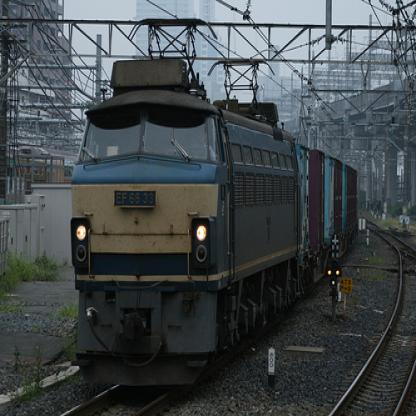train: (69, 18, 359, 384)
